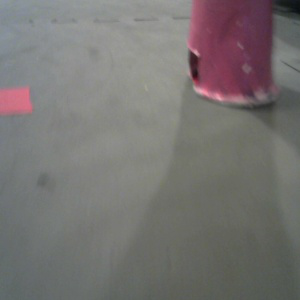right: (185, 1, 279, 106)
